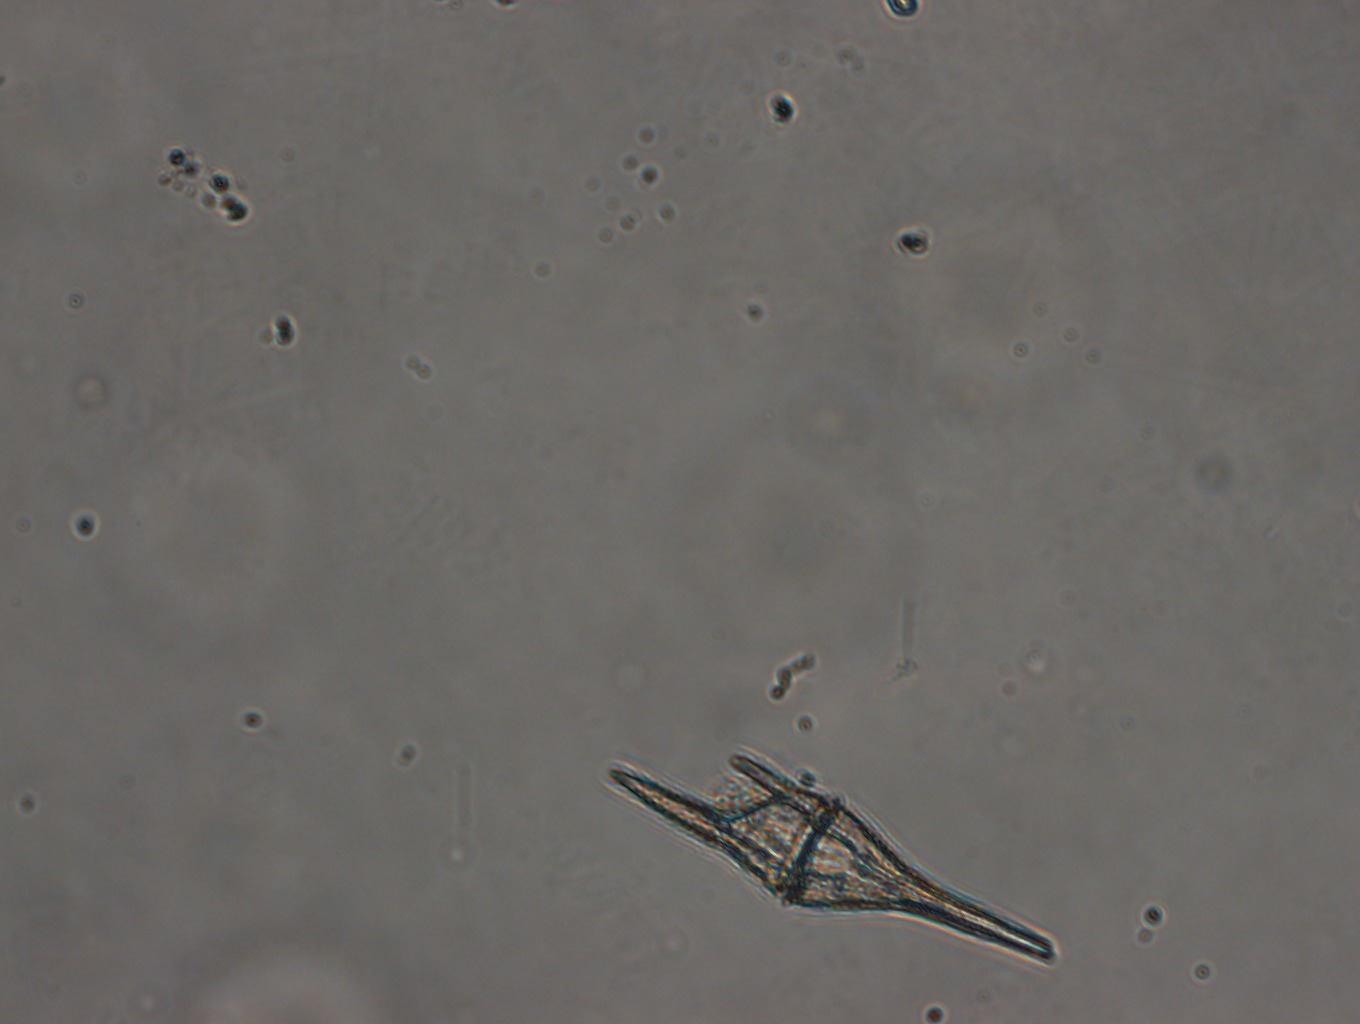ceratium furca: (607, 745, 1062, 965)
